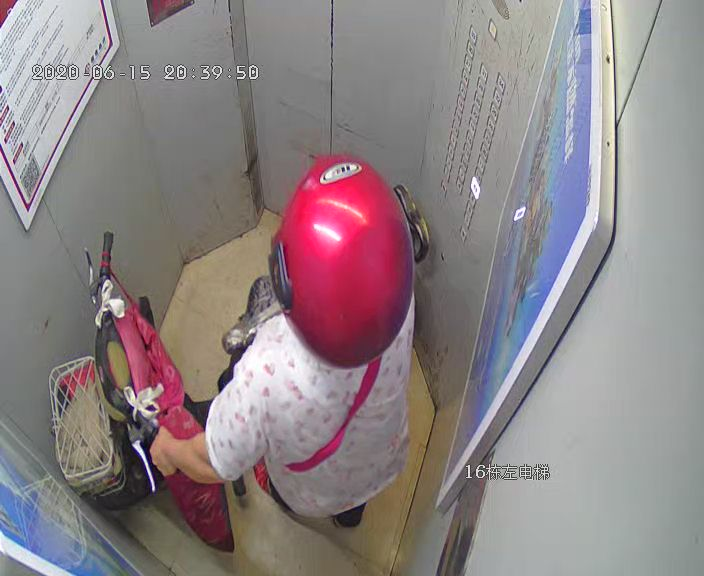Electric-bicycle: (53, 187, 430, 498)
